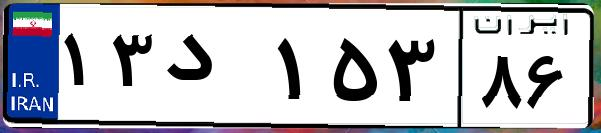1: (270, 28, 330, 110), (57, 26, 110, 100)
3: (385, 28, 445, 110), (110, 28, 158, 98)
5: (330, 28, 385, 110)
6: (525, 38, 570, 115)
8: (475, 38, 525, 113)
د: (158, 20, 270, 120)
